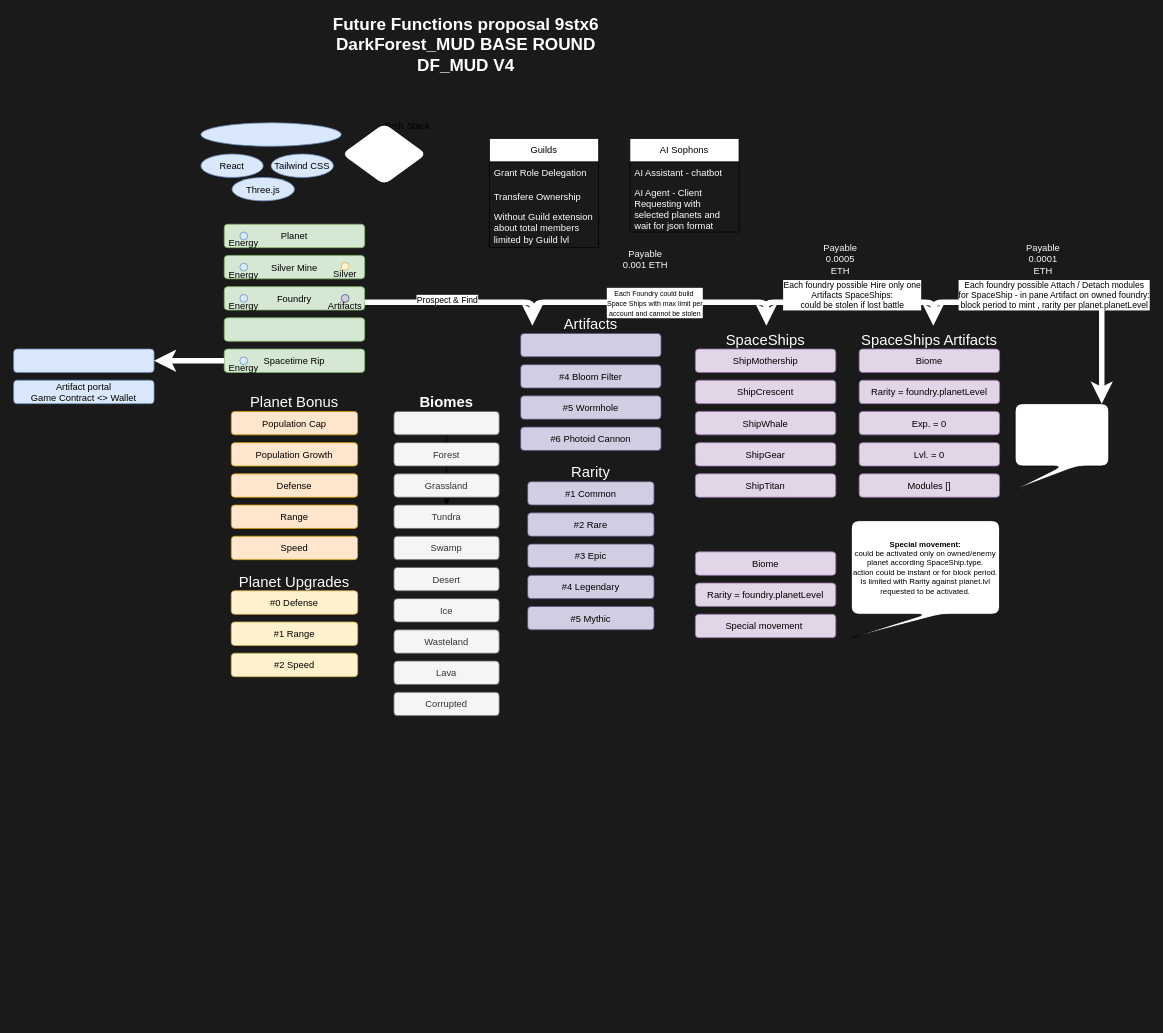
Image size: 1163x1033. Some labels were removed from this diagram. Each missing label, with the centre of its shape:
"#1 Pink Bomb" belongs at (590,345).
"Base DF_MUD v4" belongs at (383,153).
"Modules : Attack / Deffense / Explore - minigame? = each lvl 1*rarity lvl%" belongs at (1061,446).
"MUD Framework" belongs at (270,134).
"Ocean" belongs at (446,423).
"Quasar" belongs at (294,329).
"Silver Withdraw for Player ScoreBoard" belongs at (83,360).
